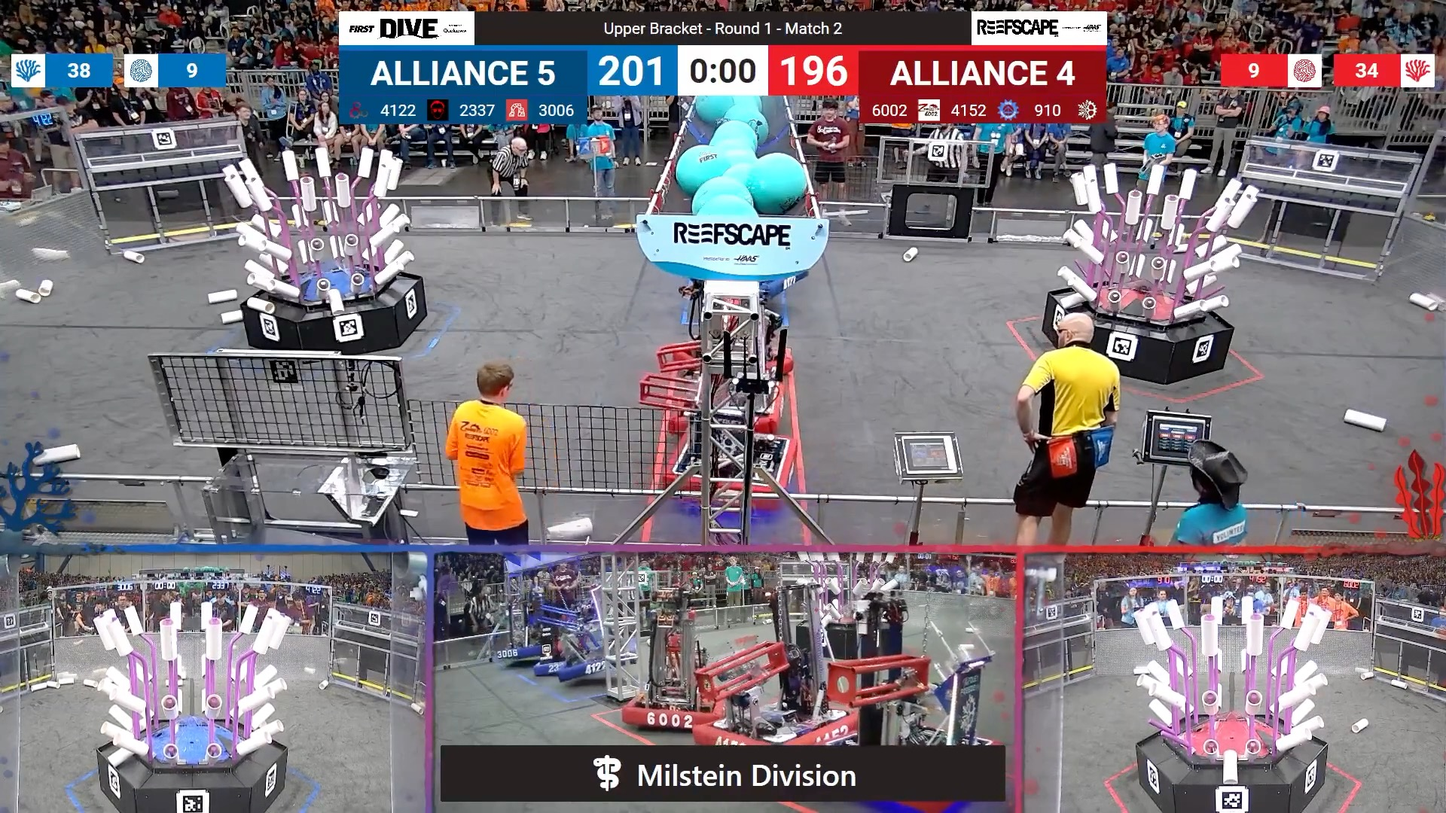bumpers: (700, 710, 861, 750), (621, 691, 729, 729), (530, 656, 615, 684)
